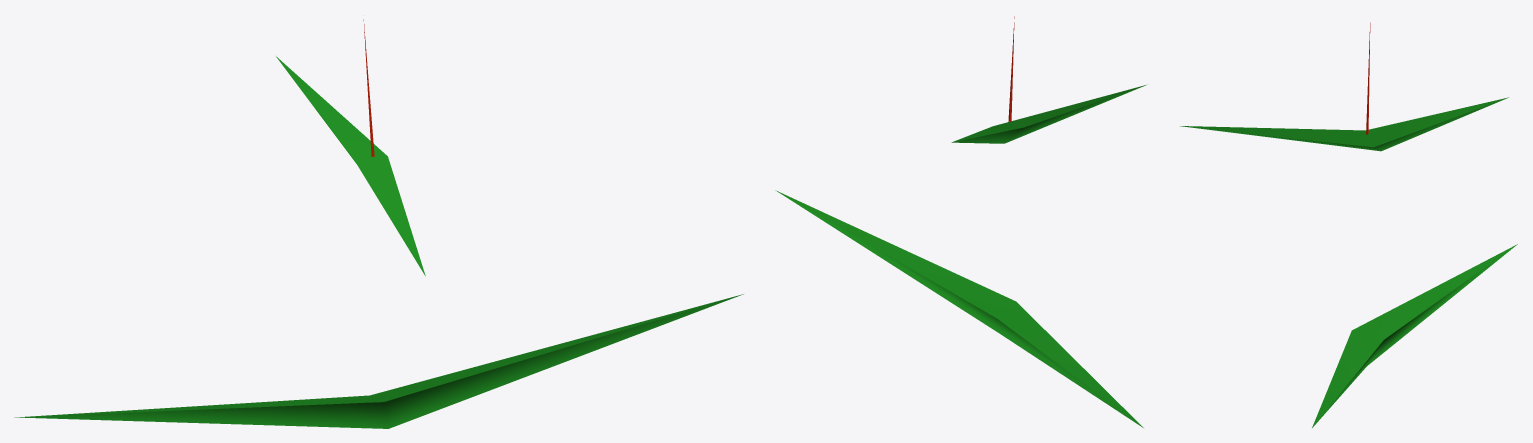
Rendered from gingerPlant_low.glb.
3 renders of one model, left to right at view 1: azimuth 30°, elevation 25°; view 2: azimuth 150°, elevation 25°; view 3: azimuth 270°, elevation 25°, orthographic. The views are drawn at different scales.
Visible parts, largest first — view 1: Icosphere; view 2: Icosphere; view 3: Icosphere.
Boxes of the visible parts, left/top/right/bottom form: Icosphere: left=14, top=19, right=743, bottom=428; Icosphere: left=775, top=16, right=1146, bottom=427; Icosphere: left=1180, top=22, right=1517, bottom=427.
Size of the model in its own units: 1.28 by 0.8458 by 0.7628.
